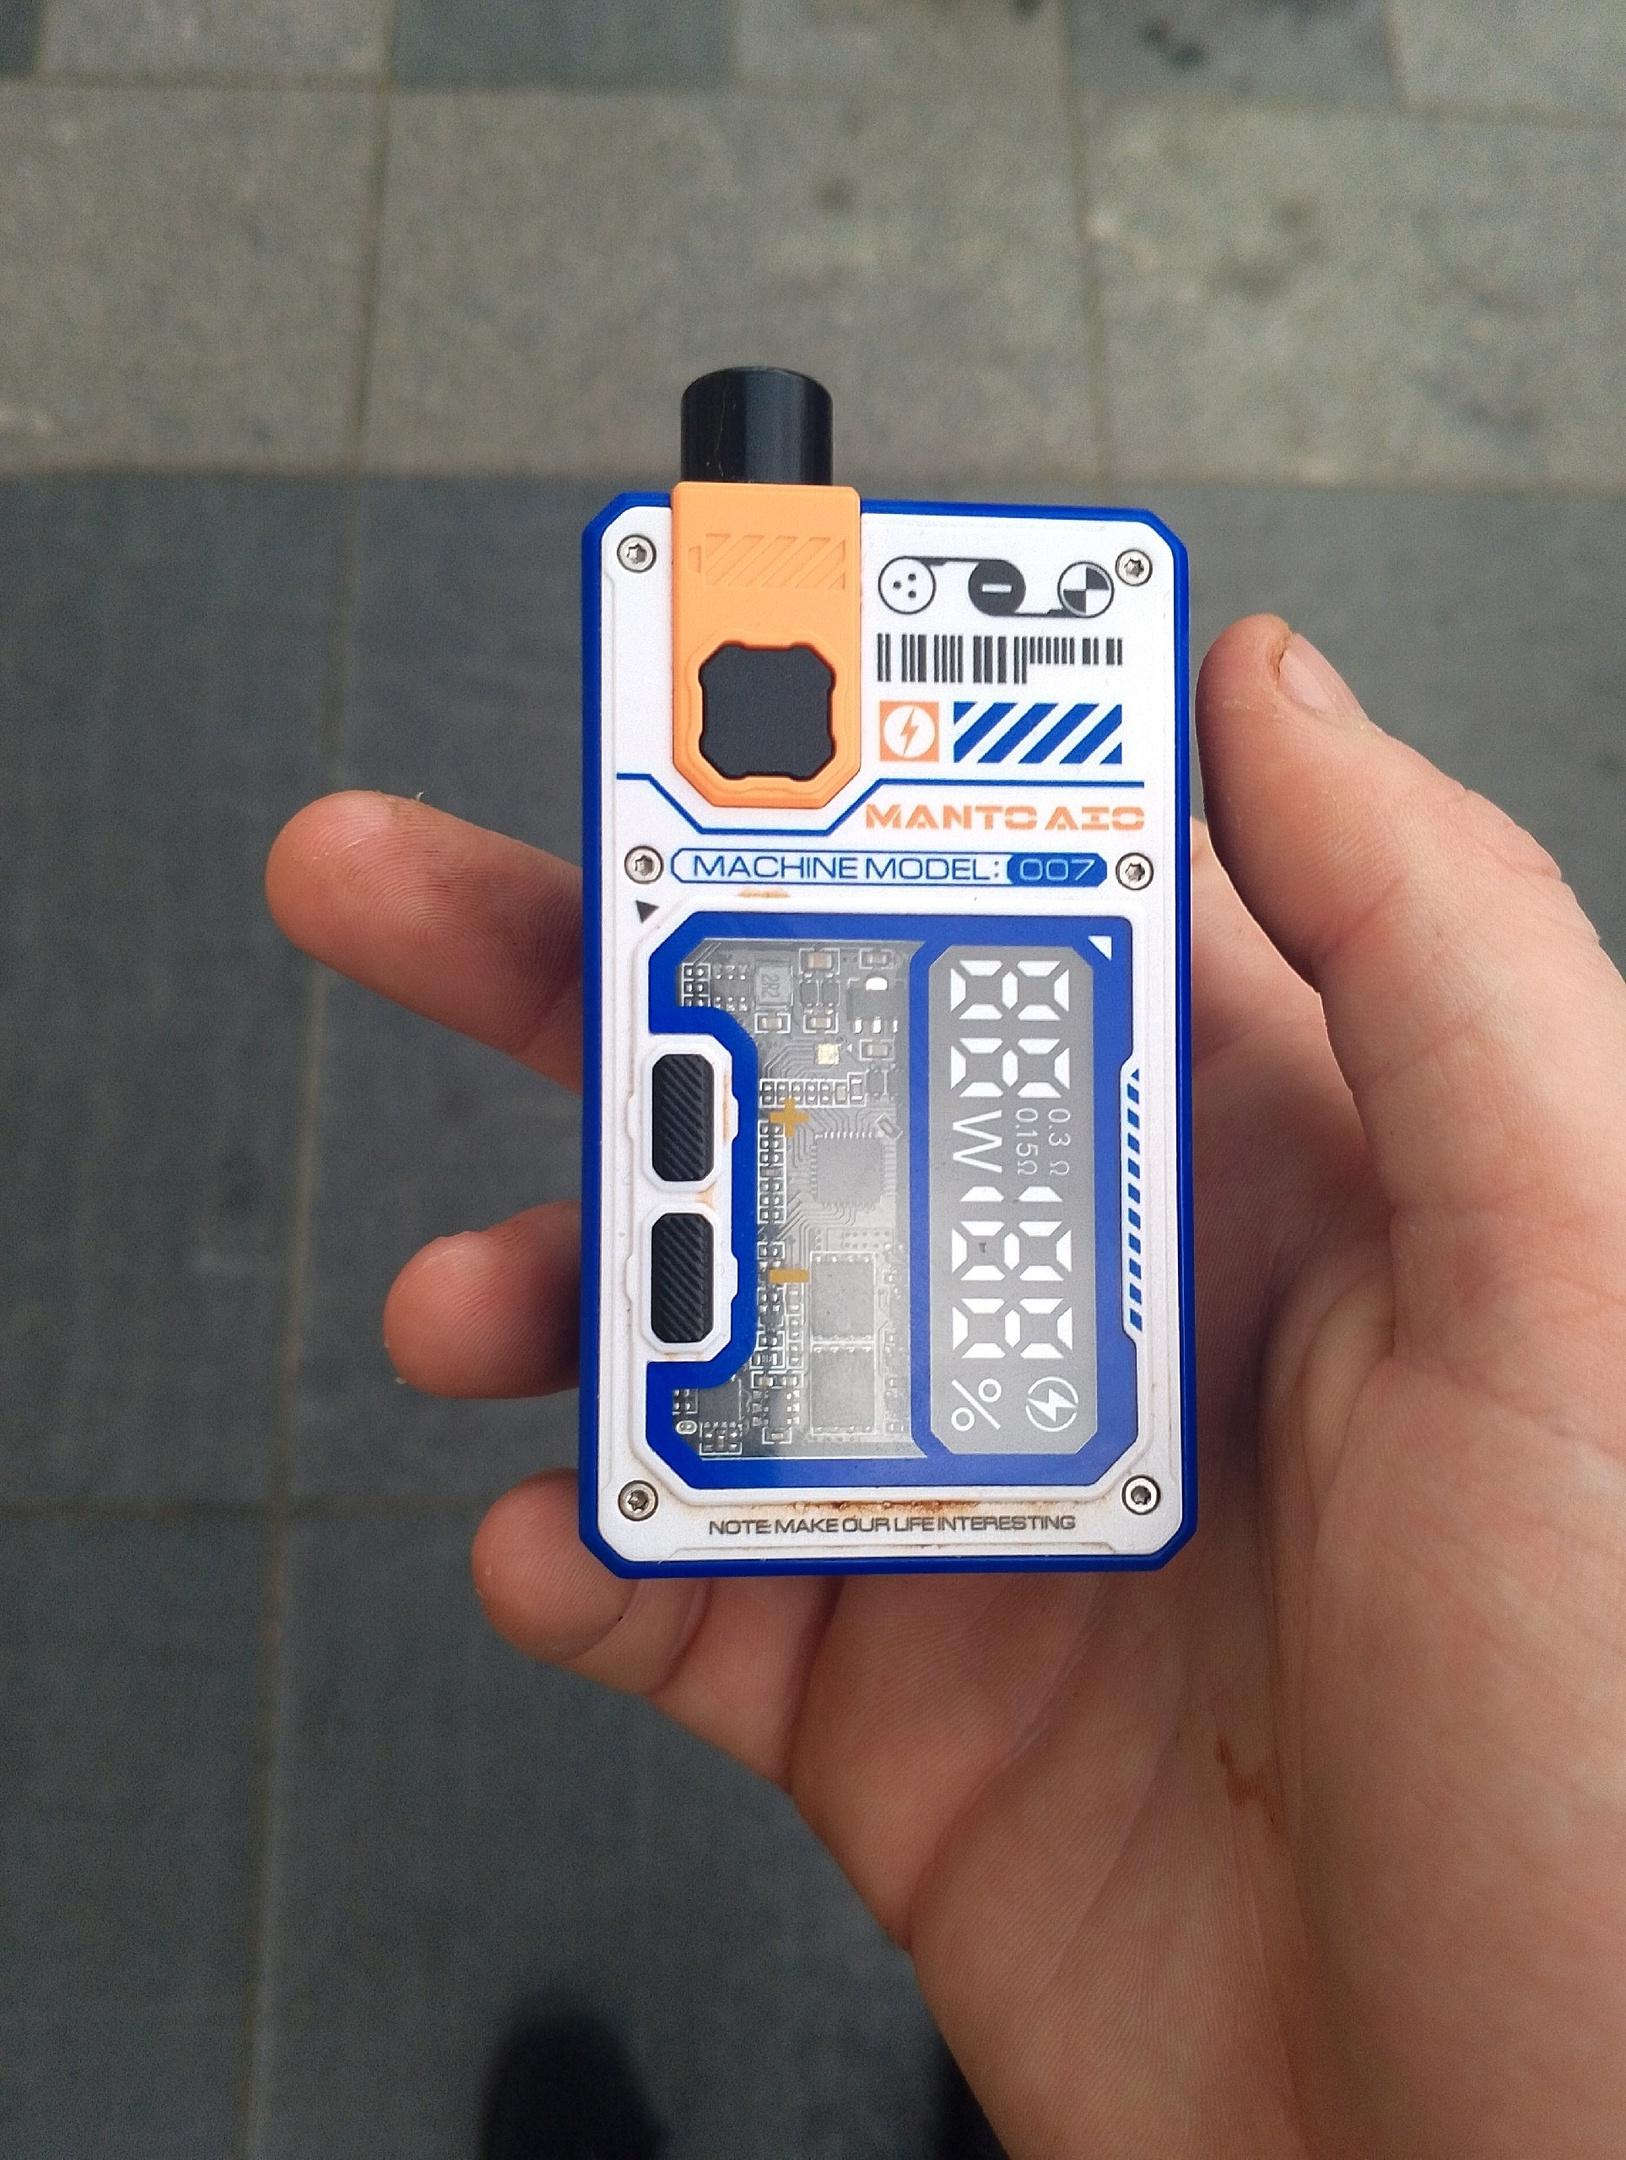Vape: (581, 367, 1190, 1578)
